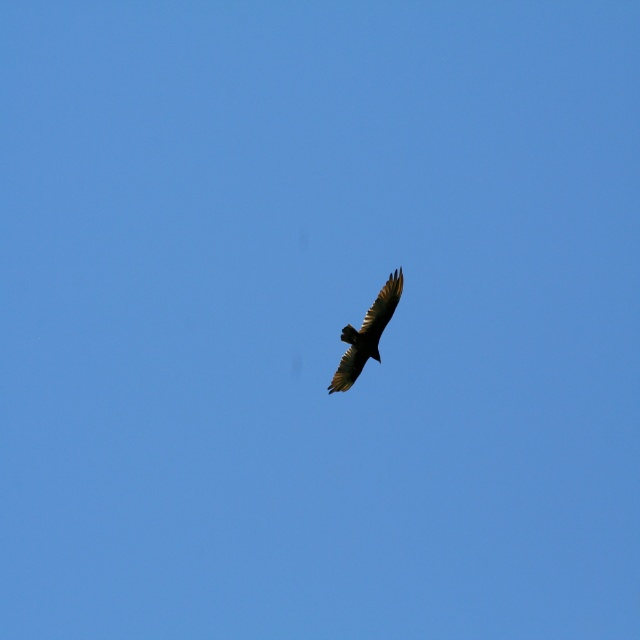Eagle: (327, 266, 404, 395)
